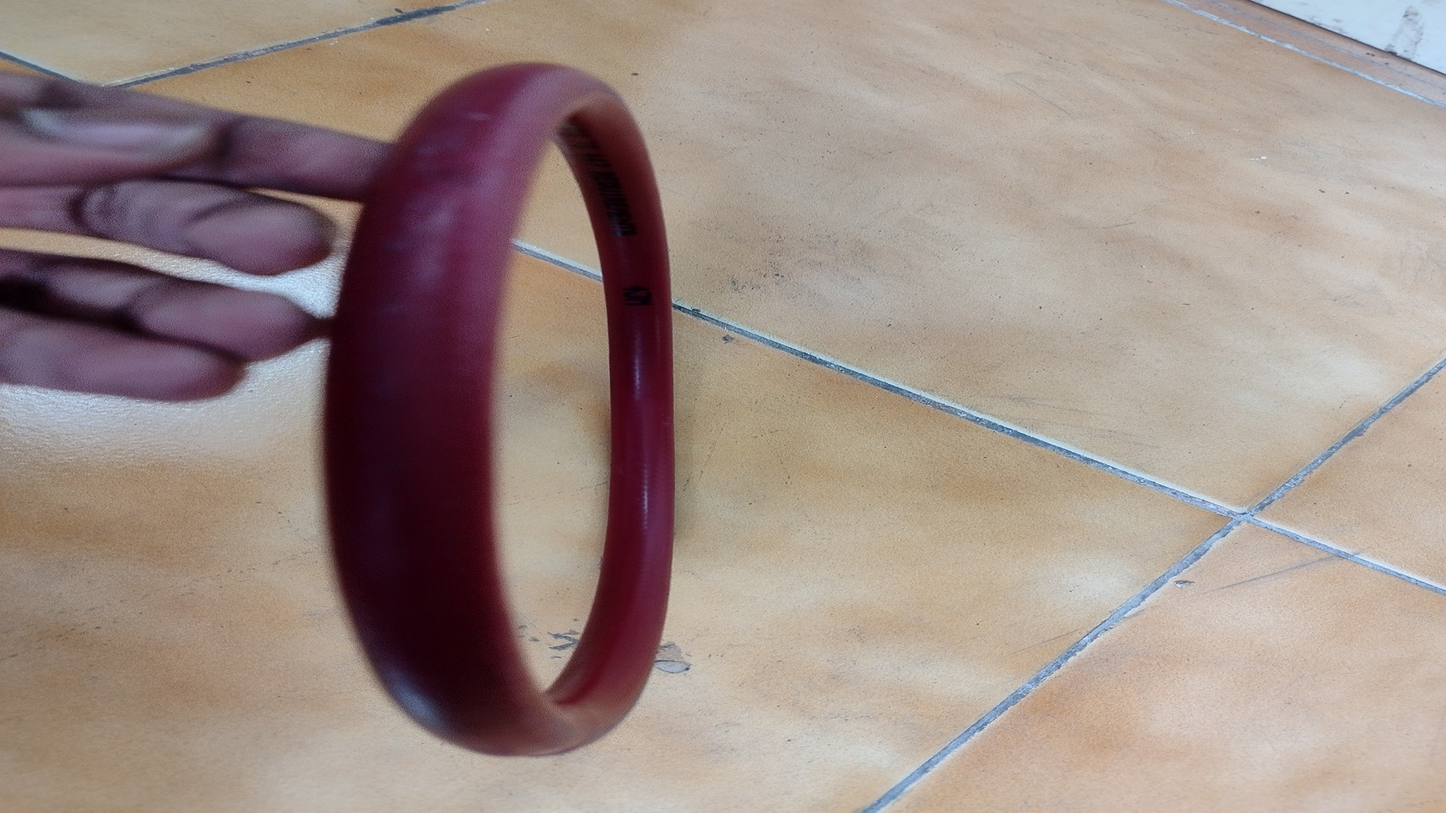Red ring: (350, 65, 679, 757)
